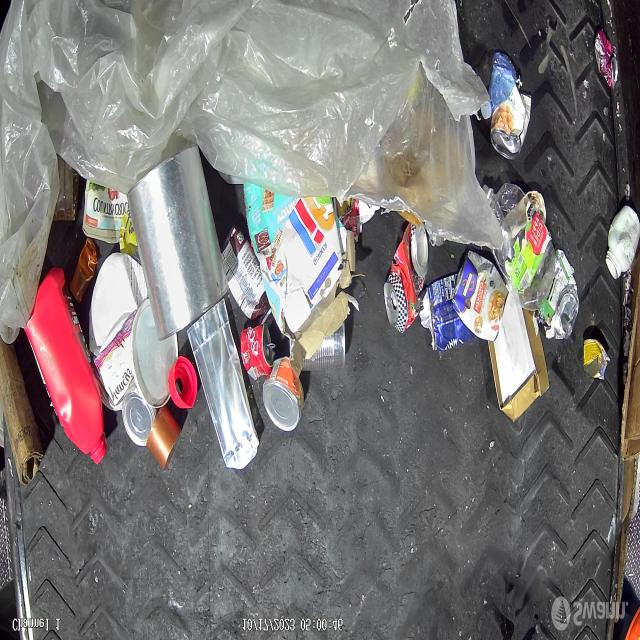can: (450, 252, 509, 342), (383, 221, 429, 334), (537, 248, 580, 340), (256, 350, 300, 432), (289, 321, 346, 374), (489, 92, 532, 162), (235, 316, 272, 376), (594, 27, 618, 92)
non_white_jug: (29, 264, 108, 460)
